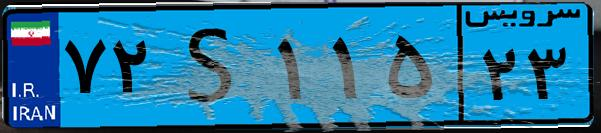1: (270, 28, 330, 110), (330, 28, 385, 110)
2: (475, 38, 525, 113), (110, 28, 158, 98)
3: (525, 38, 570, 115)
5: (385, 28, 445, 110)
7: (57, 26, 110, 100)
S: (158, 12, 270, 120)
